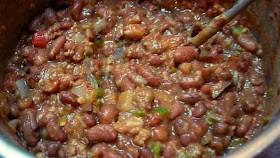RajmaCurry: (1, 2, 280, 158)
